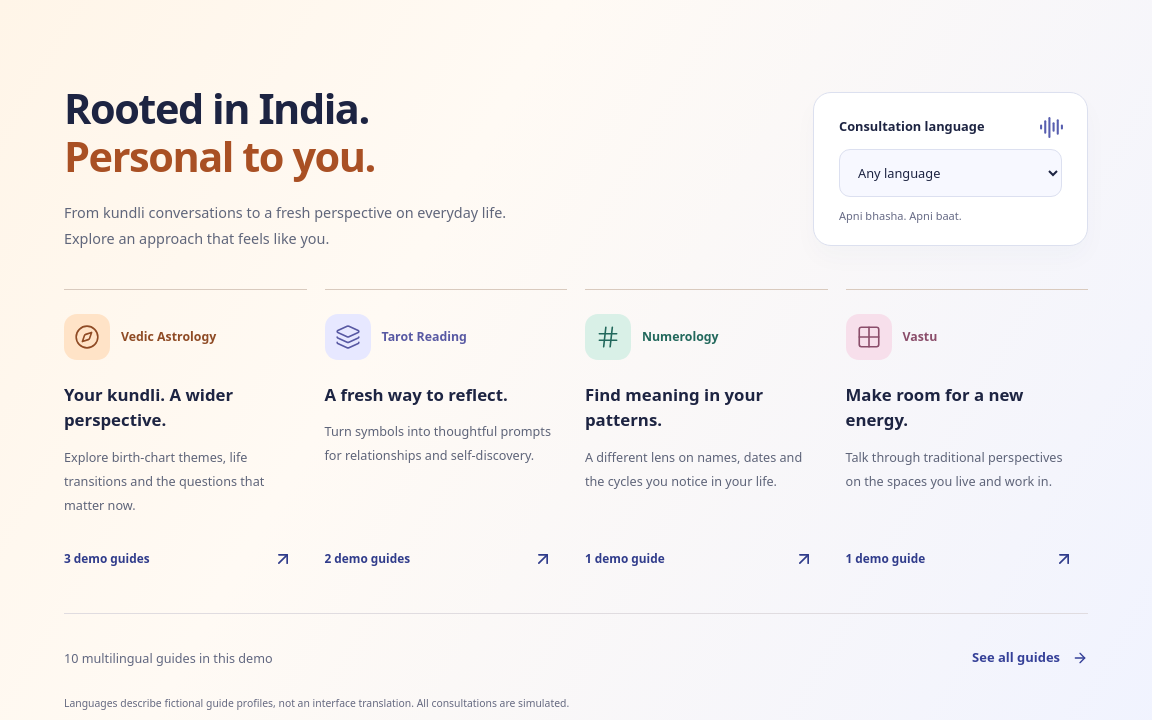
Scenario: connects Indian traditions and a preferred language to matching guides
Select "Tamil" in the dropdown labelled "Consultation language" at (950, 173), box [839, 149, 1062, 197]
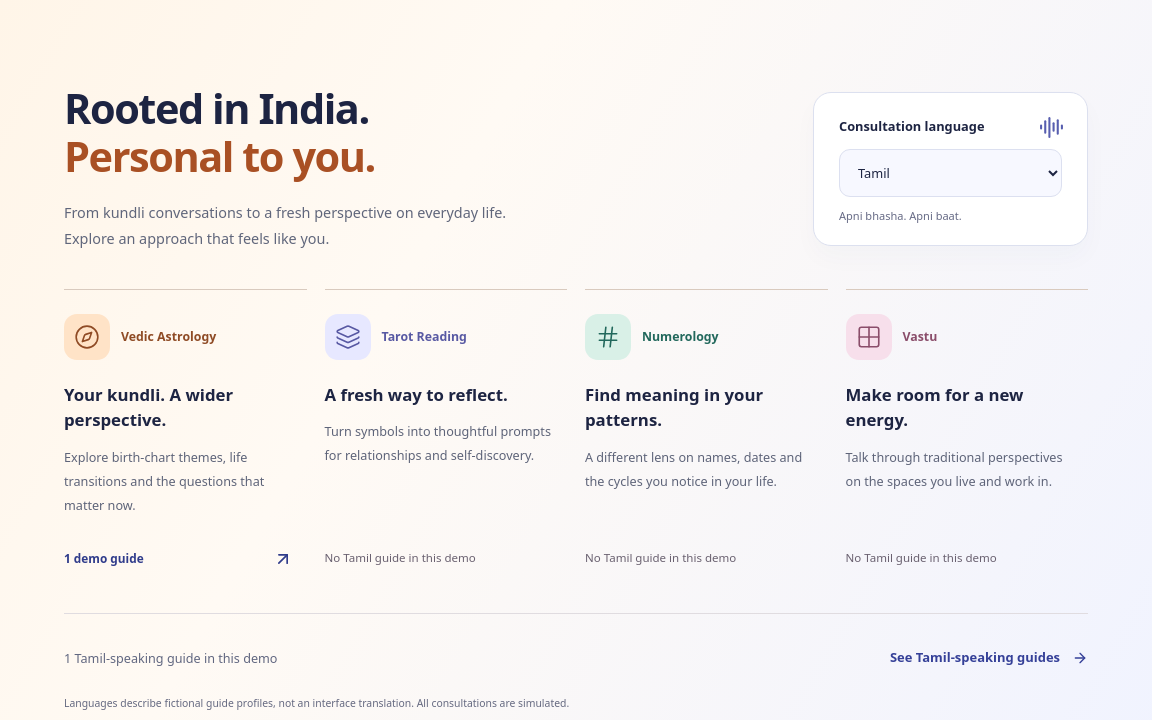
Check: the text "1 Tamil-speaking guide in this demo" is shown, box [64, 648, 278, 668]
